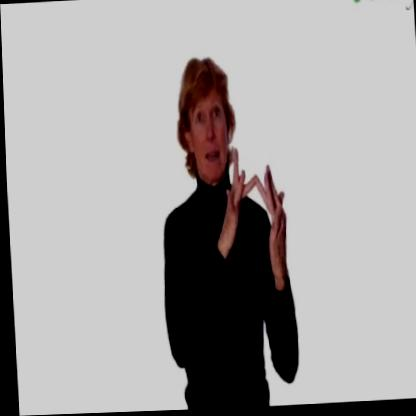Internet: (147, 49, 298, 412)
